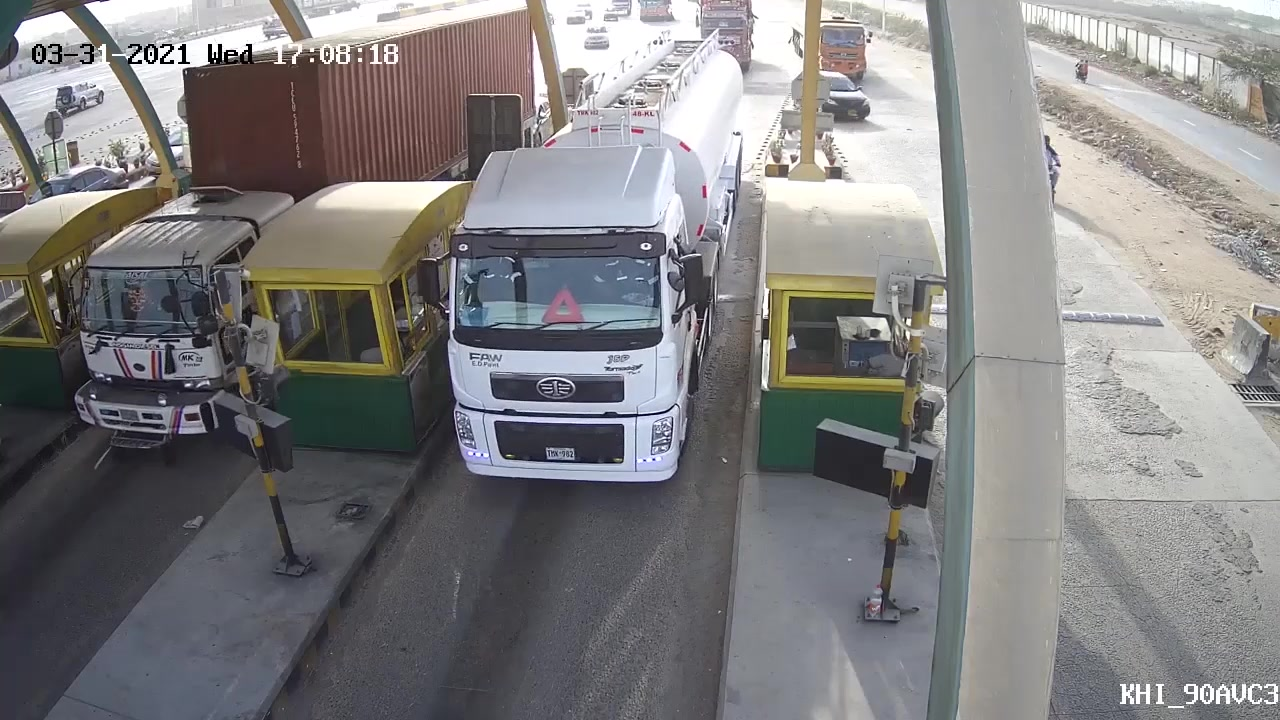F6: (405, 40, 766, 493)
